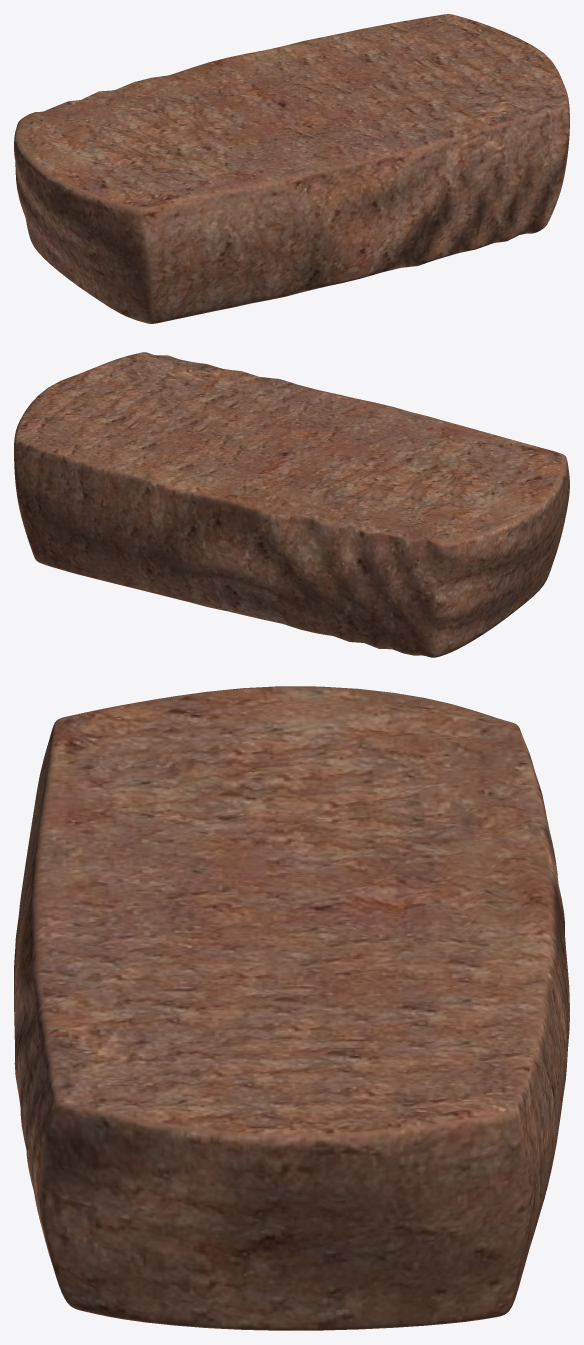
The model's file is cold_cutting_2.fbx.
3 views of the same model, one above another, from view 1: azimuth 30°, elevation 25°; view 2: azimuth 150°, elevation 25°; view 3: azimuth 270°, elevation 25° (orthographic). The views are drawn at different scales.
Visible parts, largest first — view 1: ColdCutting2; view 2: ColdCutting2; view 3: ColdCutting2.
Part boxes in pixels (box(x1,y1,x2,y2)): ColdCutting2: box(14, 14, 569, 323); ColdCutting2: box(14, 352, 569, 657); ColdCutting2: box(14, 686, 569, 1330).
Size of what is drawn, in the model's own units: 20.19 by 10.48 by 4.91.
